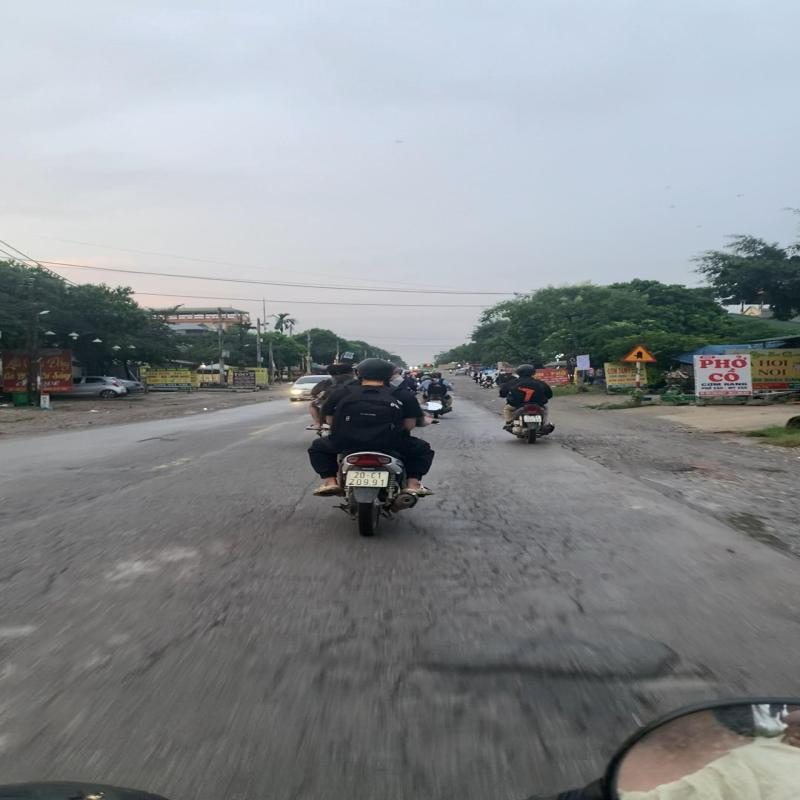helmet: (350, 356, 394, 382)
licenseplate: (342, 469, 394, 490)
motorcyclist: (304, 355, 441, 538)
